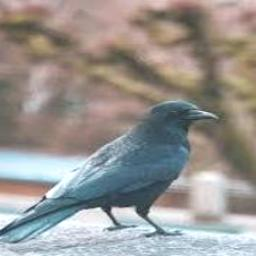Crow: (0, 100, 218, 244)
